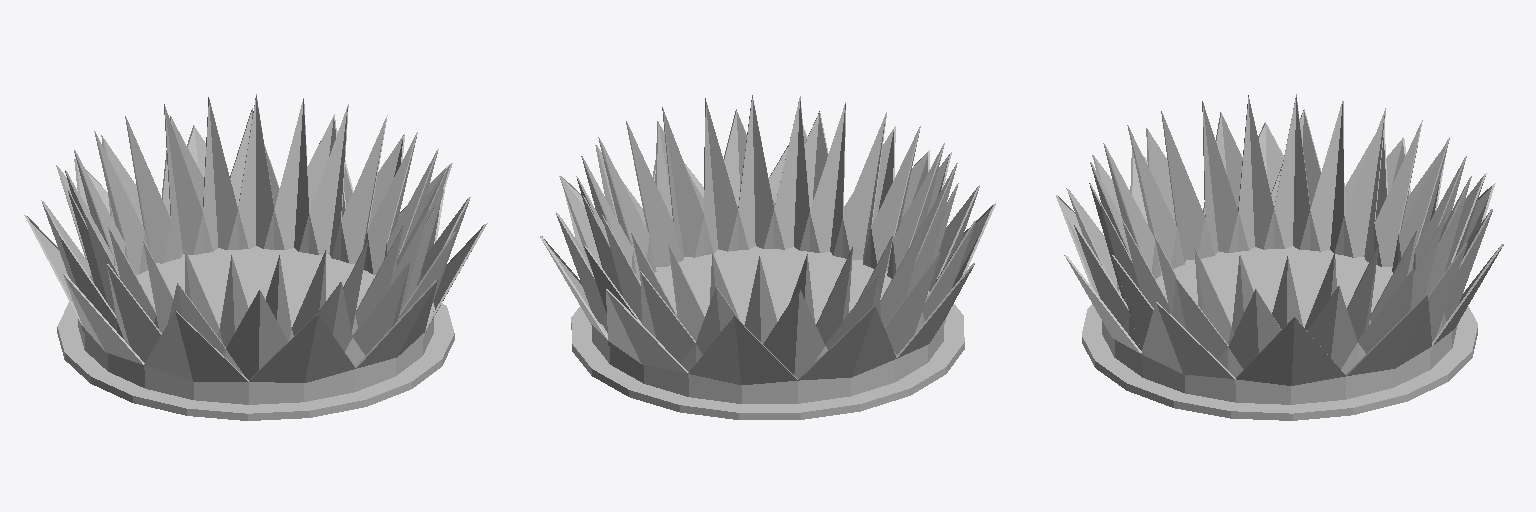
Rendered from portal_000011.obj.
3 views of the same model, side by side, from view 1: azimuth 30°, elevation 25°; view 2: azimuth 150°, elevation 25°; view 3: azimuth 270°, elevation 25° (orthographic).
Parts seen in each view (by area): view 1: Cylinder.001, pCylinder1, Cylinder; view 2: Cylinder.001, pCylinder1, Cylinder; view 3: Cylinder.001, pCylinder1, Cylinder.
Part boxes in pixels (bbox=[...]): Cylinder.001: bbox=[65, 94, 447, 347]; pCylinder1: bbox=[24, 125, 487, 420]; Cylinder: bbox=[41, 108, 470, 379]; Cylinder.001: bbox=[576, 95, 958, 343]; pCylinder1: bbox=[540, 126, 995, 419]; Cylinder: bbox=[556, 109, 979, 378]; Cylinder.001: bbox=[1089, 94, 1471, 344]; pCylinder1: bbox=[1056, 122, 1503, 420]; Cylinder: bbox=[1066, 109, 1492, 377].
Bounding box in the file's own units: 7.43 × 2.9 × 7.22.